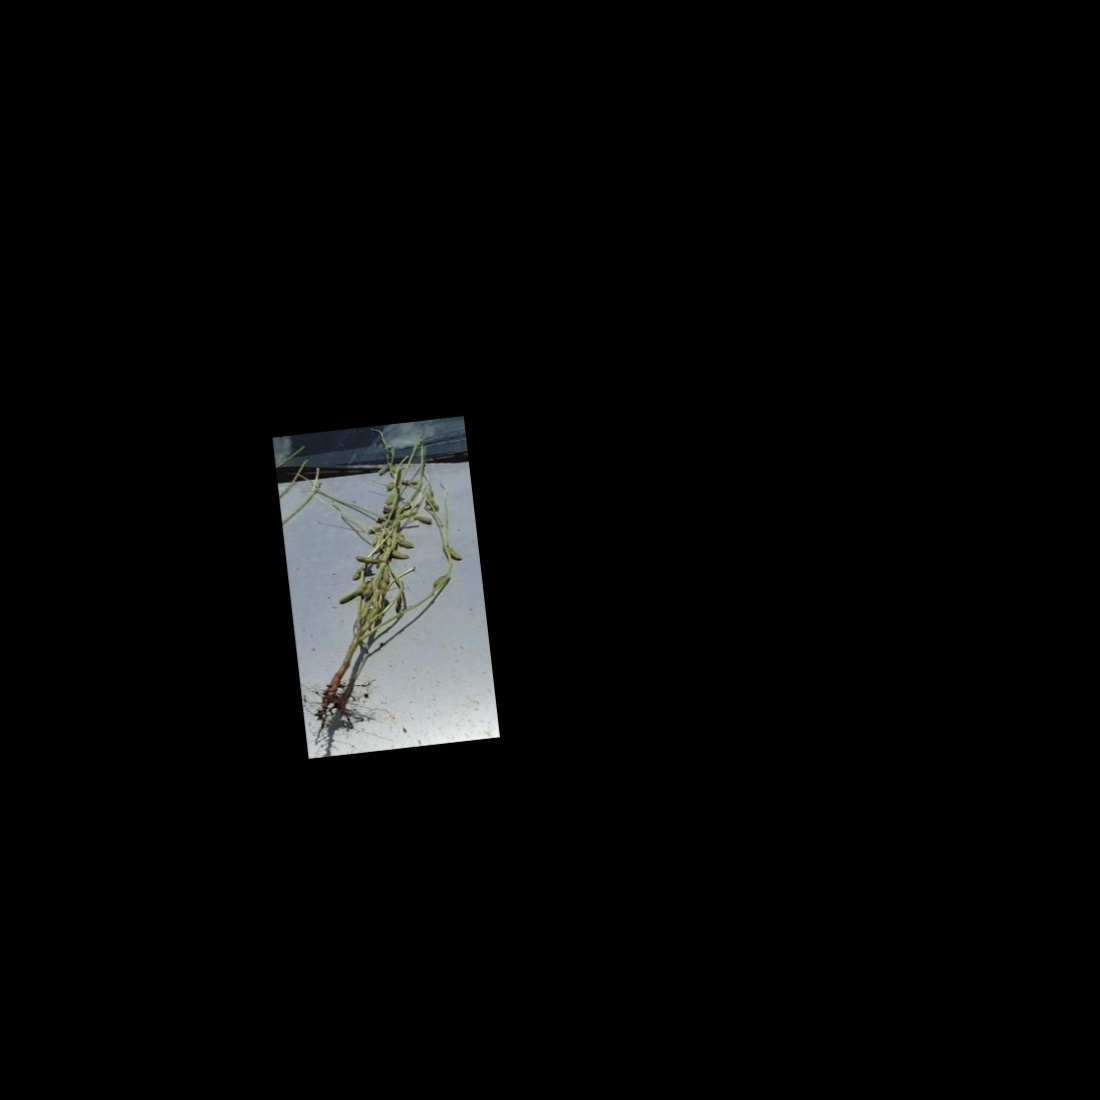pod: (350, 552, 383, 570), (335, 585, 363, 604), (446, 542, 466, 564), (410, 513, 434, 527), (390, 547, 411, 562), (399, 476, 422, 488)
soy: (282, 423, 484, 735)
